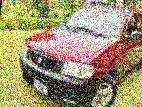car: (13, 0, 142, 107)
